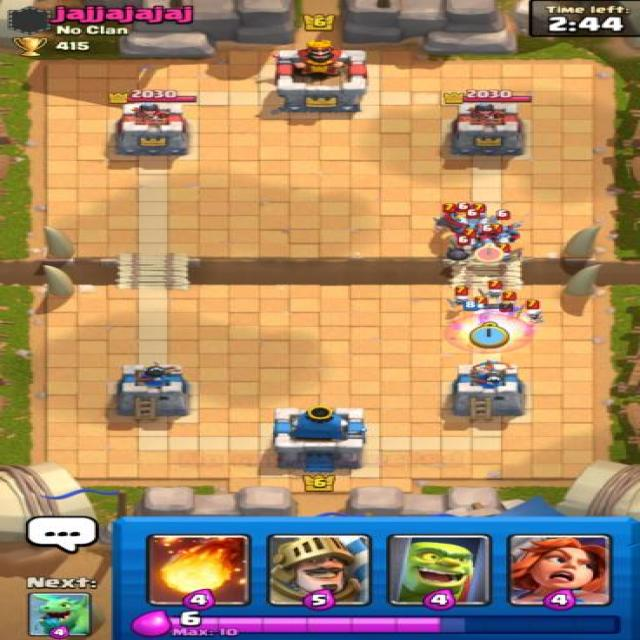Enemy-Bomber: (440, 236, 485, 264)
Enemy-Knight: (430, 202, 492, 242)
Enemy-Minion: (487, 208, 527, 244), (470, 224, 510, 258), (457, 208, 489, 239)
Enemy-Skeleton: (431, 200, 466, 234), (445, 285, 477, 311), (518, 297, 546, 326), (478, 278, 508, 303), (466, 202, 490, 231), (496, 290, 522, 314)
Player-Musketeer: (468, 300, 522, 333)
